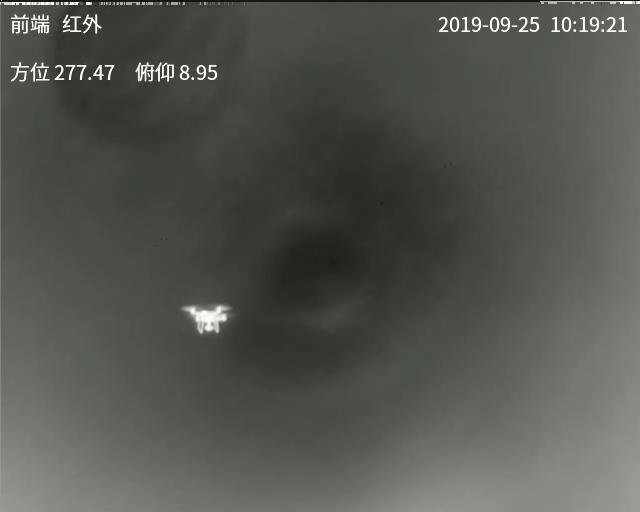uav: (177, 301, 238, 335)
